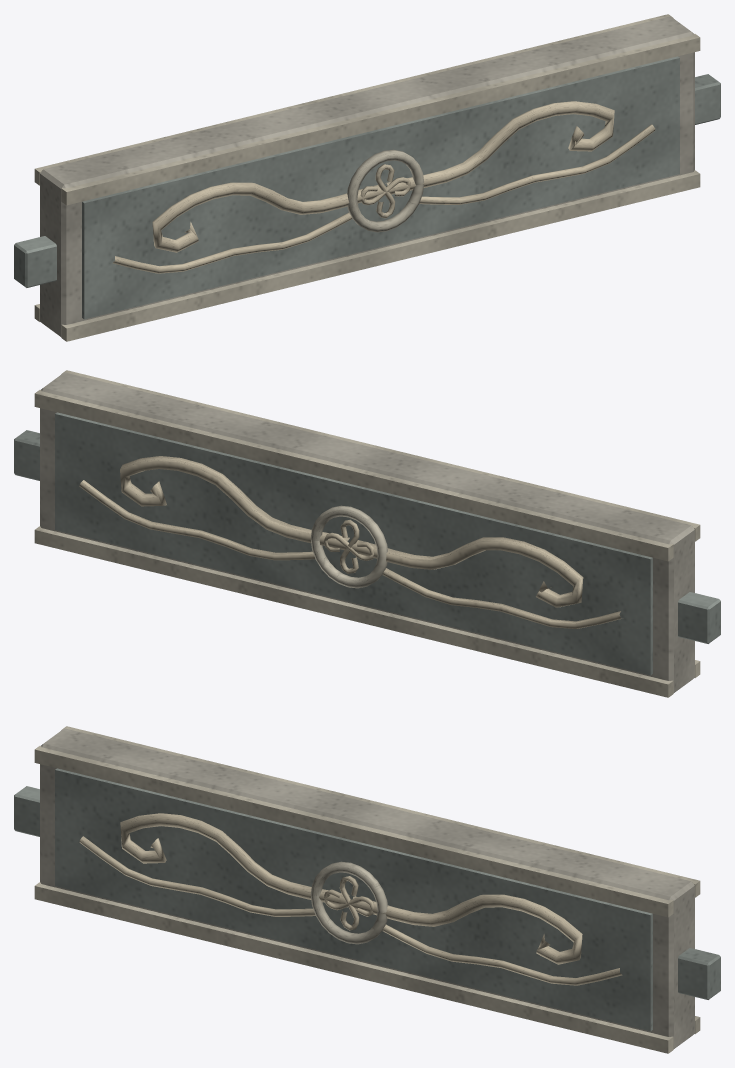
3 views of the same model, one above another, from view 1: azimuth 30°, elevation 25°; view 2: azimuth 150°, elevation 25°; view 3: azimuth 330°, elevation 25° (orthographic).
Parts seen in each view (by area): view 1: D08_cool, D08_light, D08_stone, D08_relief; view 2: D08_cool, D08_light, D08_stone, D08_relief; view 3: D08_cool, D08_light, D08_stone, D08_relief.
Boxes of the visible parts, x1,y1,x2,y2 form: D08_cool: (14,56,720,319); D08_light: (34,14,700,341); D08_stone: (40,16,694,336); D08_relief: (112,101,655,273); D08_cool: (14,412,720,675); D08_light: (34,370,700,697); D08_stone: (40,372,694,692); D08_relief: (79,456,622,628); D08_cool: (14,768,720,1031); D08_light: (34,726,700,1053); D08_stone: (40,728,694,1048); D08_relief: (79,813,622,985).
Bounding box in the file's own units: 2.35 × 0.5 × 0.241.
4 materials, 4 textured.
